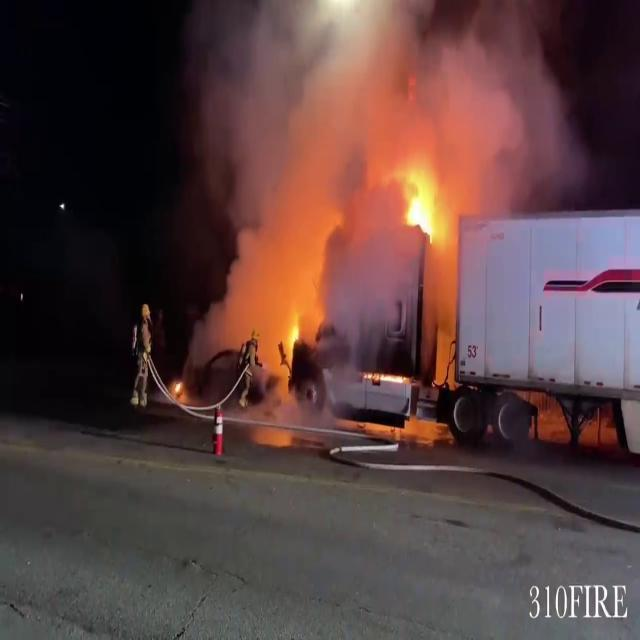Fire: (399, 169, 447, 254)
Smoke: (184, 0, 560, 305)
